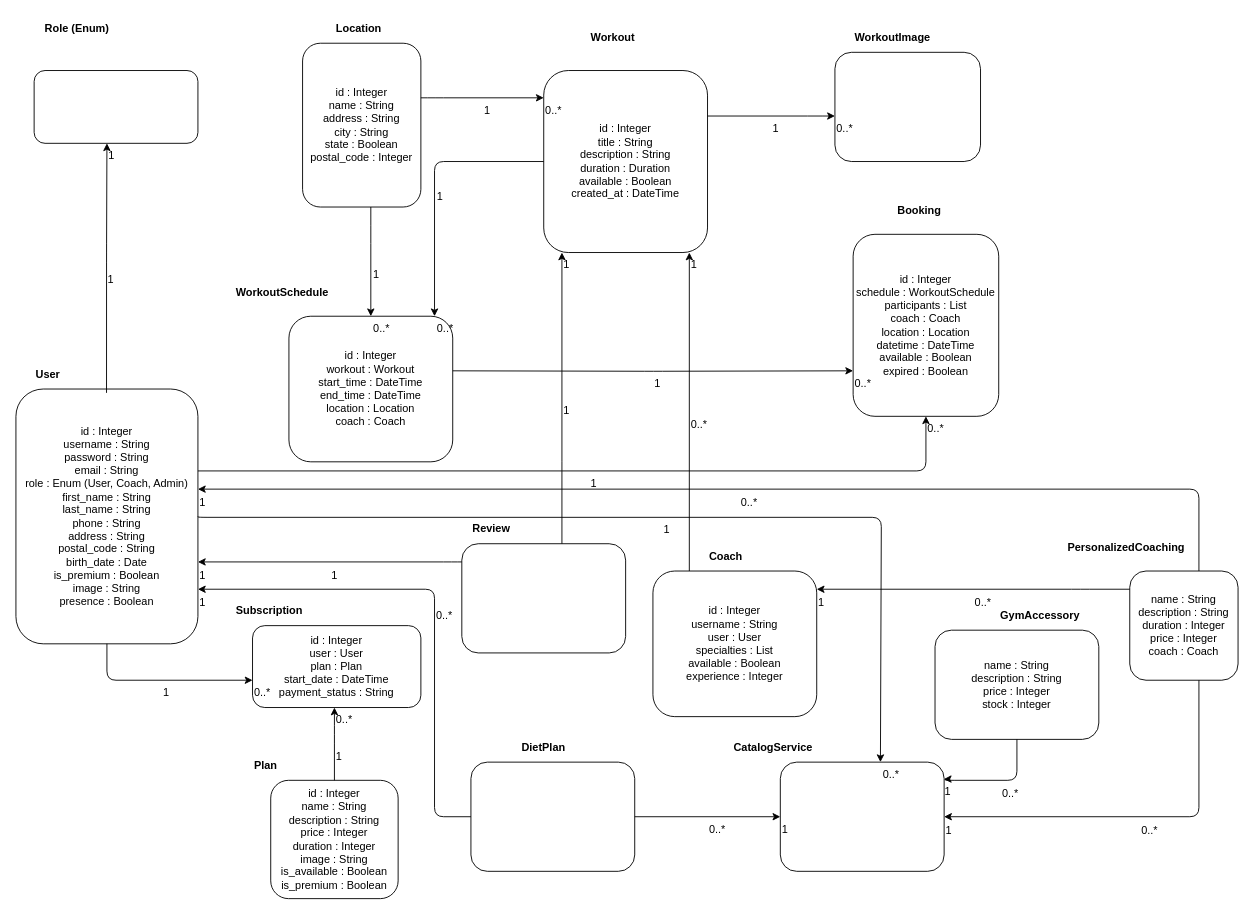
The diagram is 1254 pixels wide and 915 high, and some of its shapes have lost their labels. Each missing label, with the centre of its shape:
"id : Integer name : String description : String price : Integer" belongs at pixel 861 816.
"id : Integer user : User workout : Workout content : String datetime : DateTime" belongs at pixel 543 598.
"id : Integer workout : Workout image : String description : String" belongs at pixel 907 106.
"name : String partner_company : String price : Integer" belongs at pixel 552 816.
"User Coach Admin" belongs at pixel 115 106.
